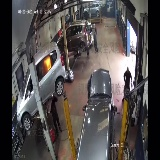fire: (42, 54, 54, 75)
